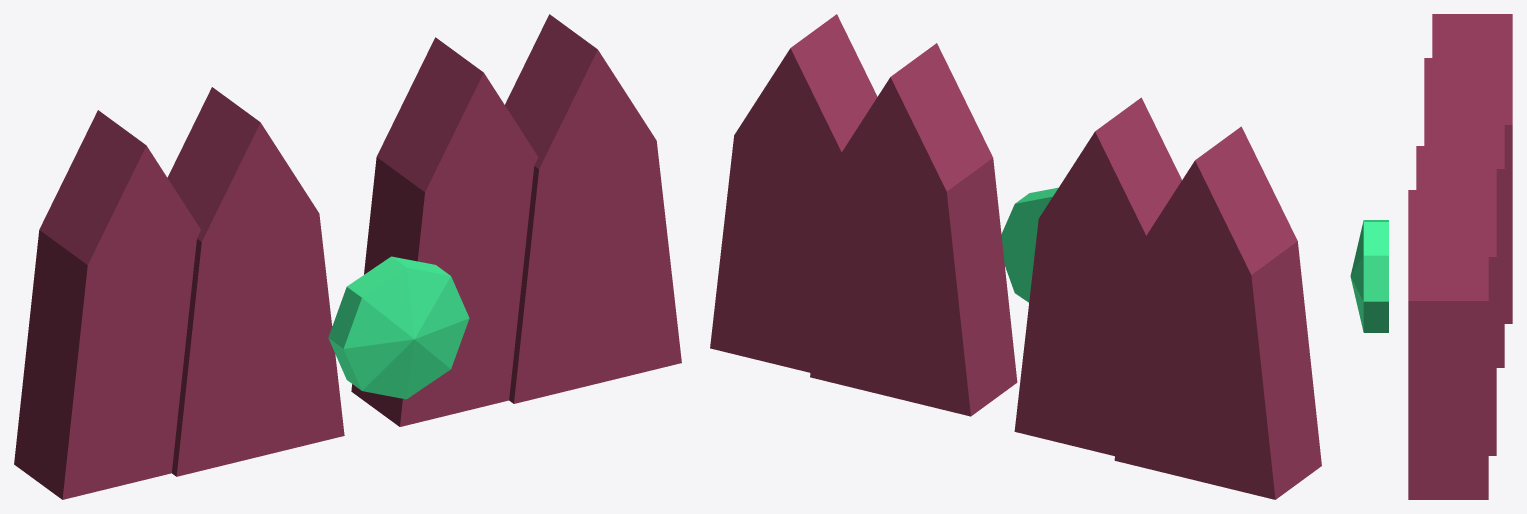
The model's file is feather_mantle.obj.
3 views of the same model, side by side, from view 1: azimuth 30°, elevation 25°; view 2: azimuth 150°, elevation 25°; view 3: azimuth 270°, elevation 25° (orthographic). The views are drawn at different scales.
Parts seen in each view (by area): view 1: feather_collar_3, feather_collar_1, feather_collar_0, feather_collar_2, feather_collar_0_edge, feather_collar_gem, feather_collar_2_edge, feather_collar_1_edge, feather_collar_3_edge; view 2: feather_collar_2, feather_collar_0, feather_collar_3, feather_collar_1, feather_collar_2_edge, feather_collar_0_edge, feather_collar_3_edge, feather_collar_1_edge, feather_collar_gem; view 3: feather_collar_3_edge, feather_collar_1_edge, feather_collar_0_edge, feather_collar_2_edge, feather_collar_gem.
Part boxes in pixels (x1=…): feather_collar_3: x1=514, y1=50, x2=681, y2=403; feather_collar_1: x1=176, y1=122, x2=344, y2=476; feather_collar_0: x1=62, y1=146, x2=200, y2=499; feather_collar_2: x1=400, y1=73, x2=538, y2=426; feather_collar_0_edge: x1=14, y1=110, x2=146, y2=499; feather_collar_gem: x1=328, y1=256, x2=469, y2=399; feather_collar_2_edge: x1=351, y1=37, x2=483, y2=426; feather_collar_1_edge: x1=167, y1=87, x2=260, y2=476; feather_collar_3_edge: x1=505, y1=14, x2=597, y2=403; feather_collar_2: x1=810, y1=77, x2=970, y2=416; feather_collar_0: x1=1114, y1=161, x2=1275, y2=499; feather_collar_3: x1=710, y1=48, x2=841, y2=372; feather_collar_1: x1=1014, y1=132, x2=1145, y2=456; feather_collar_2_edge: x1=890, y1=43, x2=1017, y2=416; feather_collar_0_edge: x1=1195, y1=126, x2=1321, y2=499; feather_collar_3_edge: x1=790, y1=14, x2=877, y2=151; feather_collar_1_edge: x1=1095, y1=97, x2=1181, y2=235; feather_collar_gem: x1=1001, y1=187, x2=1058, y2=302; feather_collar_3_edge: x1=1408, y1=190, x2=1488, y2=499; feather_collar_1_edge: x1=1424, y1=58, x2=1504, y2=367; feather_collar_0_edge: x1=1432, y1=14, x2=1512, y2=323; feather_collar_2_edge: x1=1416, y1=146, x2=1496, y2=455; feather_collar_gem: x1=1350, y1=220, x2=1388, y2=332.
Bounding box in the file's own units: 0.72 × 0.38 × 0.2023.
